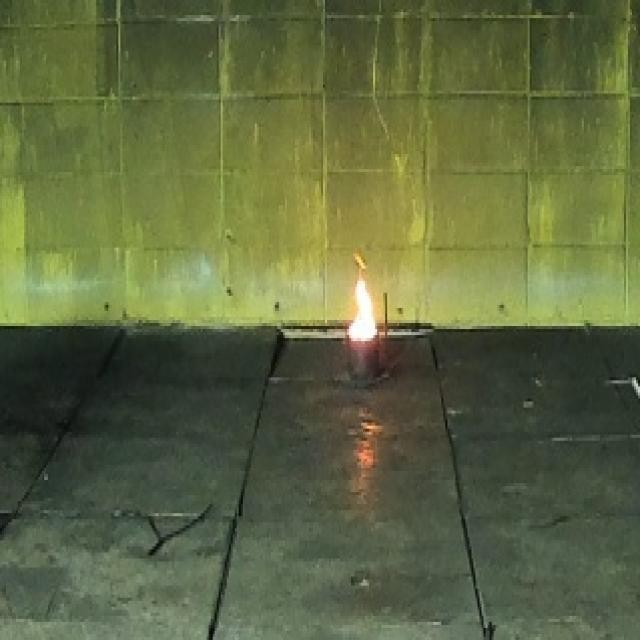Fire: (347, 252, 378, 342)
